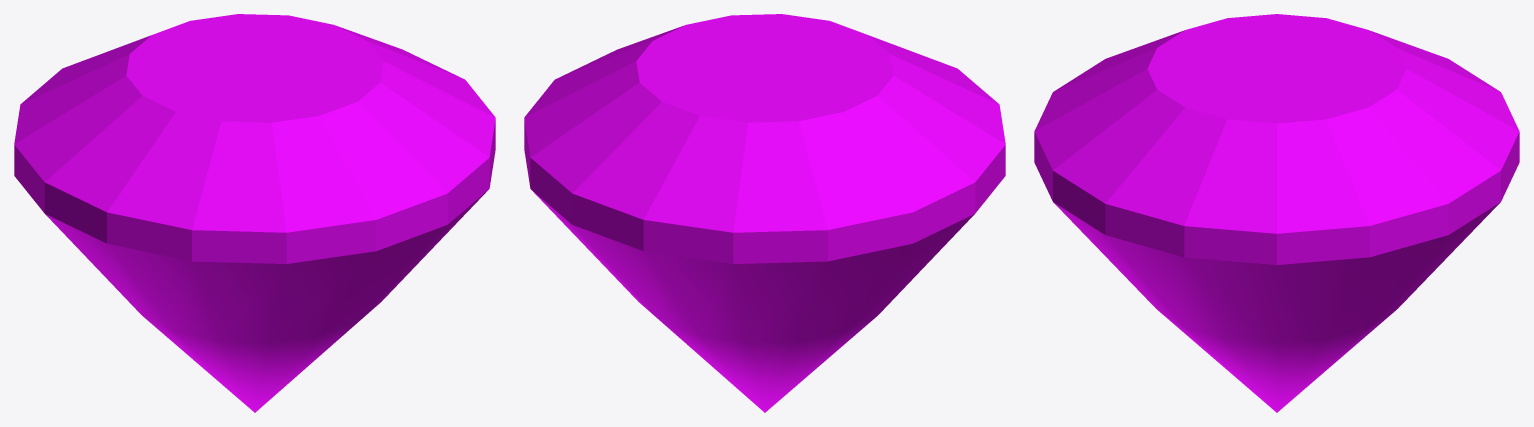
Rendered from Magenta Gem.FBX.
3 renders of one model, left to right at view 1: azimuth 30°, elevation 25°; view 2: azimuth 150°, elevation 25°; view 3: azimuth 270°, elevation 25°, orthographic.
Parts seen in each view (by area): view 1: Magenta Gem; view 2: Magenta Gem; view 3: Magenta Gem.
Boxes of the visible parts, left/top/right/bottom form: Magenta Gem: left=14, top=14, right=495, bottom=412; Magenta Gem: left=524, top=14, right=1005, bottom=412; Magenta Gem: left=1034, top=14, right=1519, bottom=412.
Bounding box in the file's own units: 0.1 × 0.0783 × 0.1.
